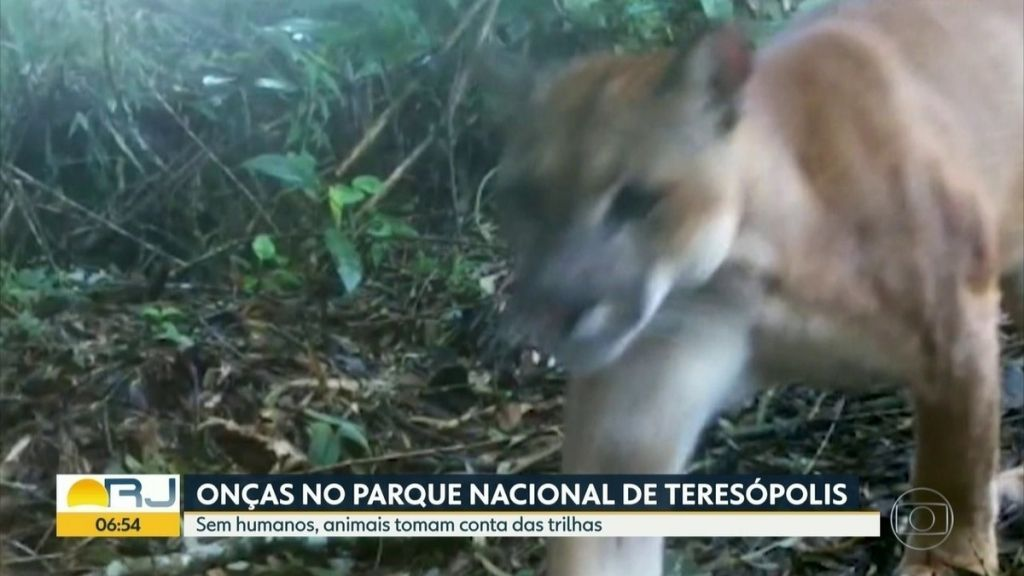OncaParda: (467, 2, 1022, 472)
